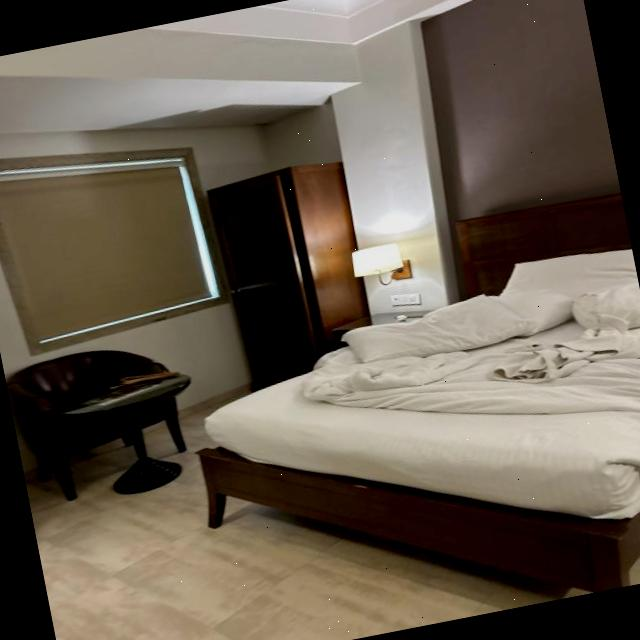Disorganized_pillow: (310, 250, 635, 380)
mess: (358, 306, 619, 404)
messy_bed: (202, 191, 640, 589)
